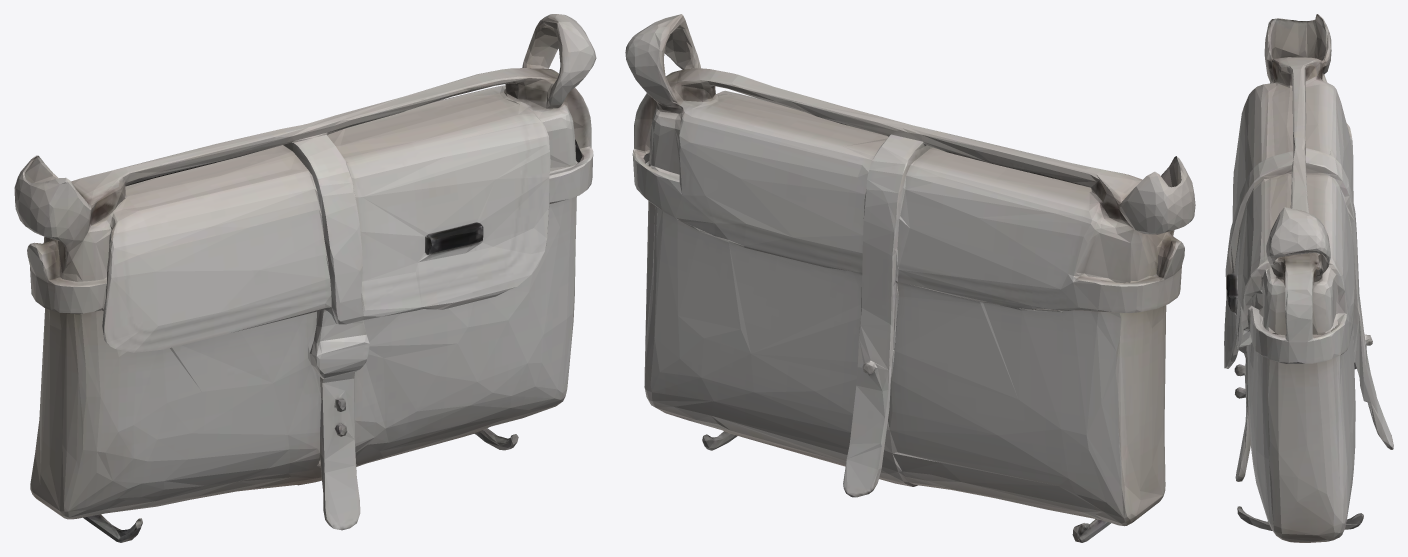
3 views of the same model, side by side, from view 1: azimuth 30°, elevation 25°; view 2: azimuth 150°, elevation 25°; view 3: azimuth 270°, elevation 25° (orthographic). The views are drawn at different scales.
Parts seen in each view (by area): view 1: geometry_0; view 2: geometry_0; view 3: geometry_0.
Boxes of the visible parts, x1=… form: geometry_0: x1=14, y1=14, x2=596, y2=542; geometry_0: x1=625, y1=14, x2=1195, y2=542; geometry_0: x1=1224, y1=14, x2=1393, y2=542.
Bounding box in the file's own units: 0.9969 × 0.7234 × 0.2971.
1 material, 1 textured.
